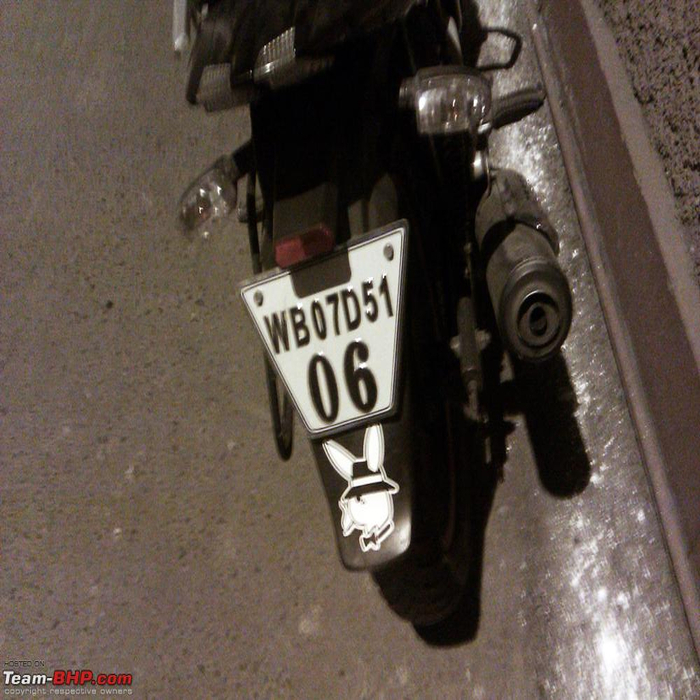n: (237, 221, 414, 442)
